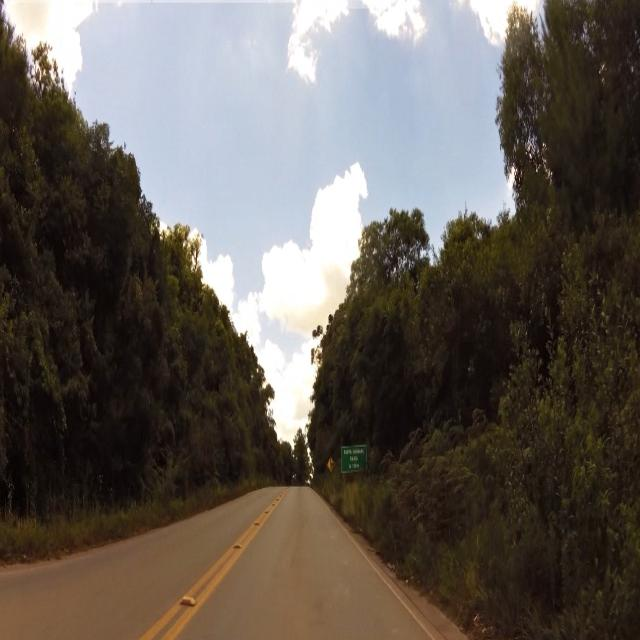I-4: (341, 445, 367, 470)
